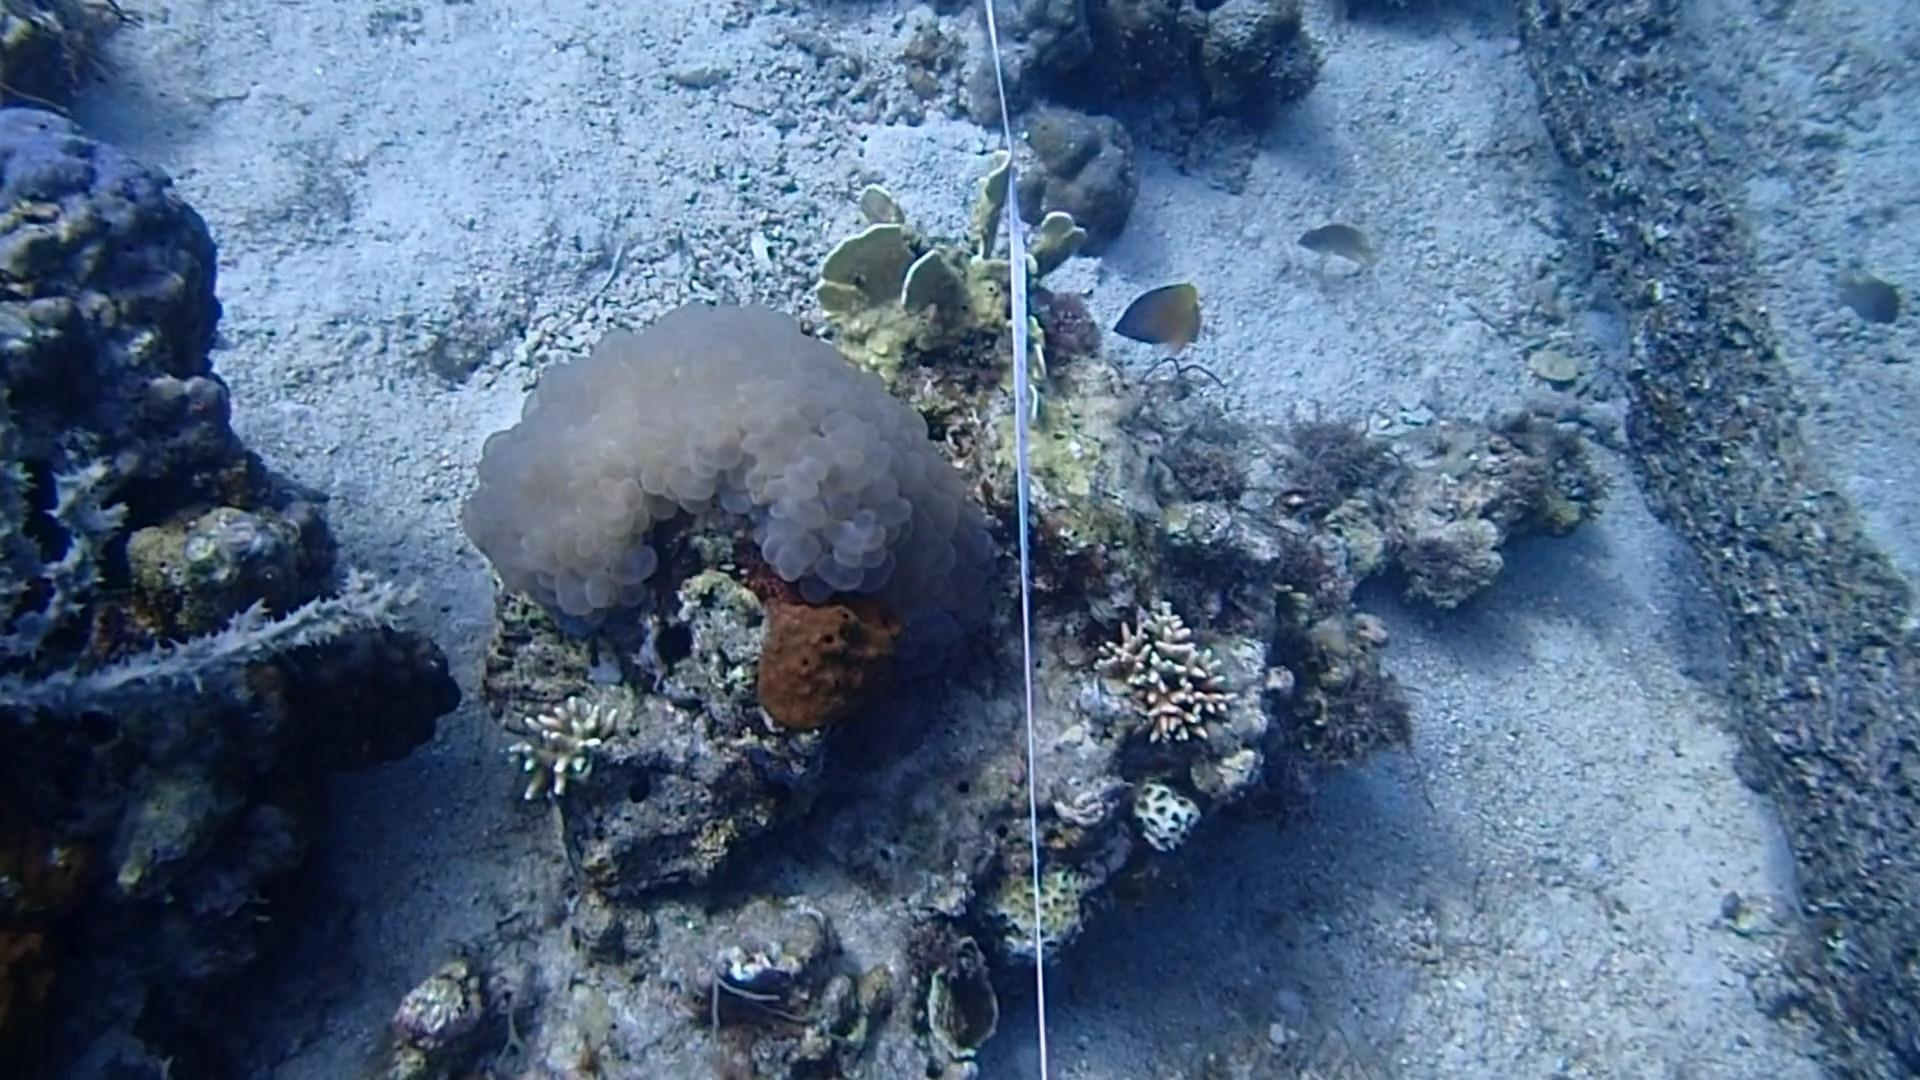Light Fish: (1279, 210, 1386, 280), (1828, 265, 1911, 331)
Yellow-Blue Fish: (1100, 269, 1213, 367)
